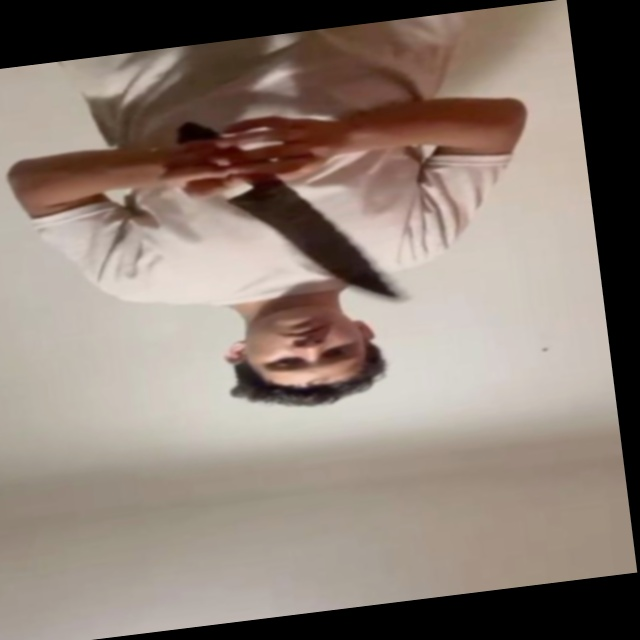Sharp-Object: (223, 172, 401, 317)
